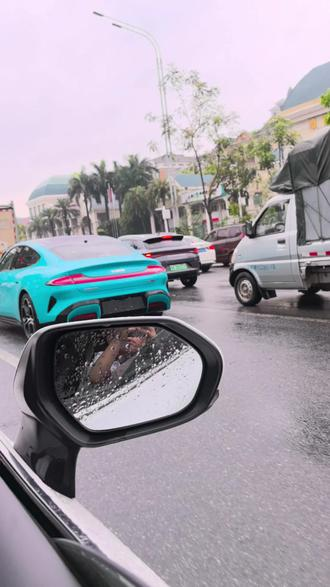other: (131, 234, 204, 287)
su7: (0, 232, 174, 329)
